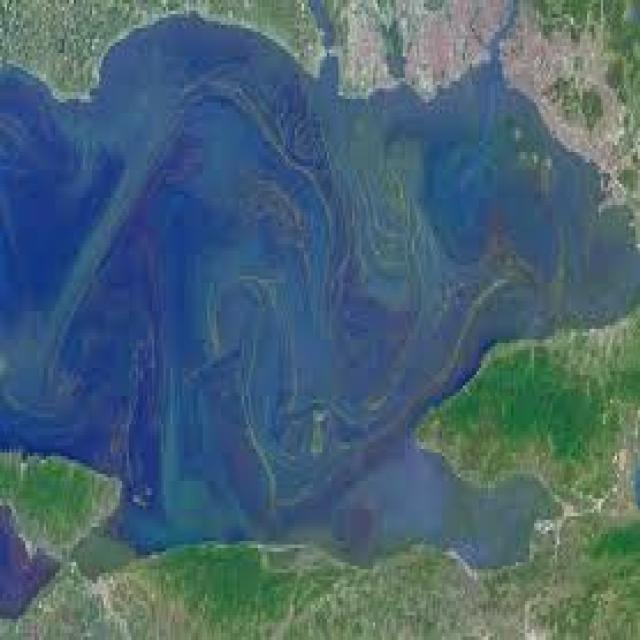algal: (0, 18, 637, 544)
